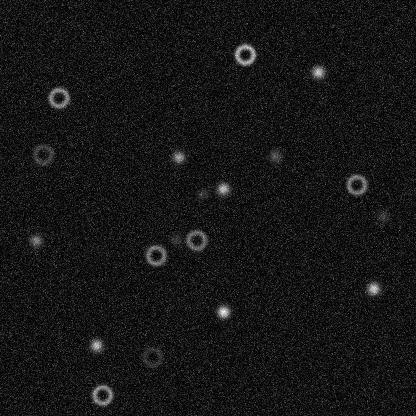Ring: (30, 142, 54, 166), (90, 382, 114, 406), (46, 85, 70, 109), (143, 243, 167, 267), (140, 345, 164, 369), (184, 228, 208, 252), (344, 172, 368, 196), (232, 42, 256, 66)
Spot: (266, 148, 282, 164), (215, 180, 231, 196), (170, 149, 186, 165), (88, 337, 104, 353), (215, 303, 231, 319), (27, 232, 43, 248), (310, 64, 326, 80), (374, 208, 390, 224), (167, 231, 183, 247), (194, 185, 210, 201), (365, 280, 381, 296)
